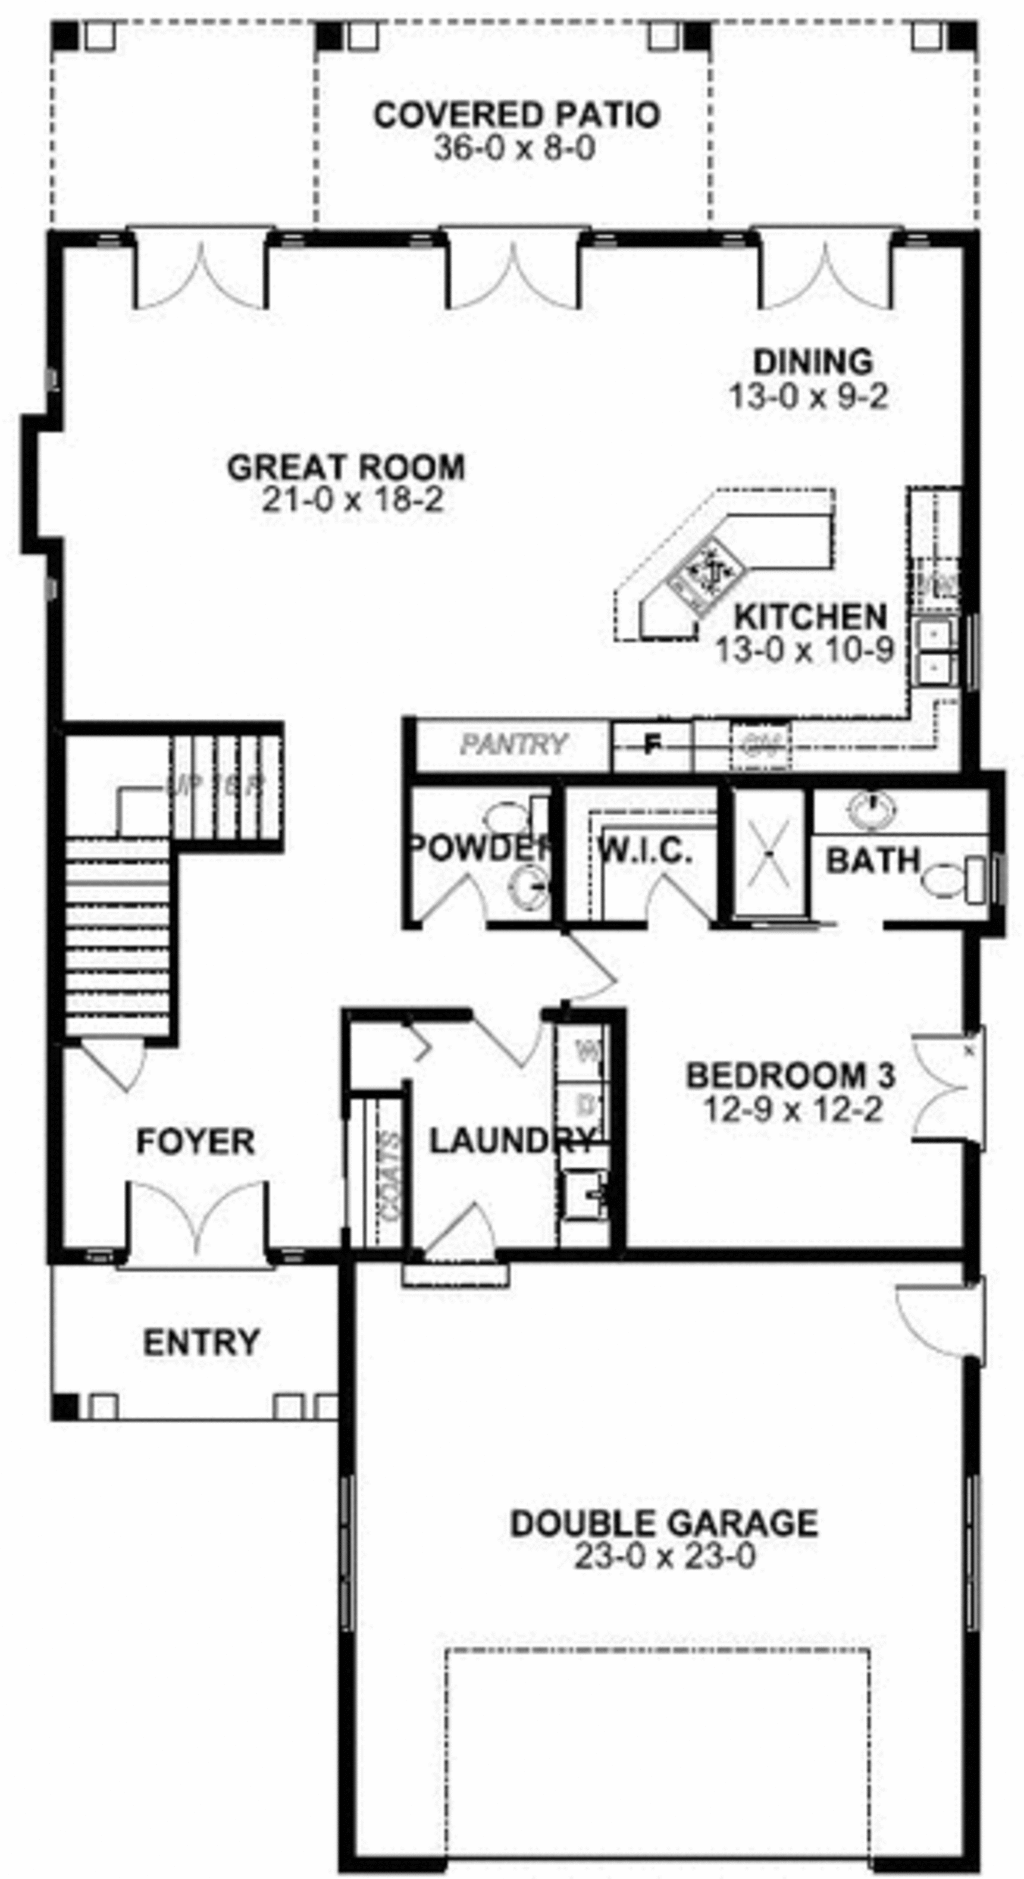door: (119, 1177, 288, 1281), (433, 224, 586, 322), (747, 224, 895, 323), (119, 230, 288, 311), (885, 1271, 995, 1361), (905, 1021, 982, 1143), (422, 865, 497, 940), (425, 1195, 489, 1261), (637, 873, 705, 933)
kitchen_bar: (602, 475, 829, 641)
small_sink: (827, 781, 913, 841)
stairs: (55, 713, 288, 1049)
